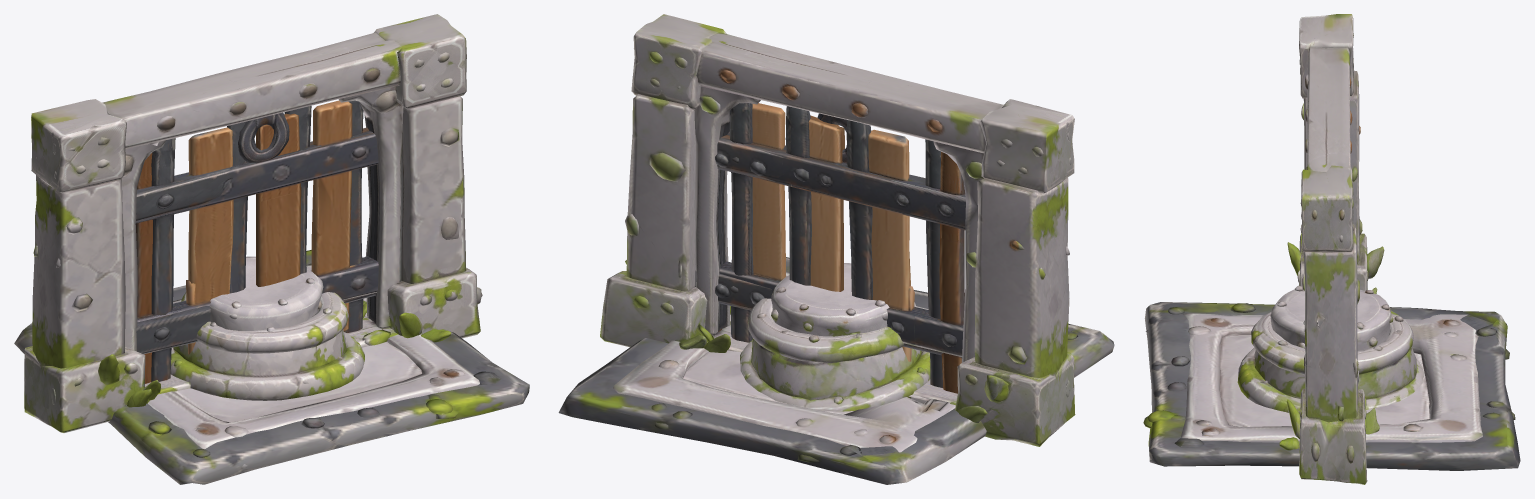
The model's file is puzle_dungeon.glb.
The picture shows the model from 3 angles, left to right: view 1: azimuth 30°, elevation 25°; view 2: azimuth 150°, elevation 25°; view 3: azimuth 270°, elevation 25°; orthographic projection. The views are drawn at different scales.
Parts seen in each view (by area): view 1: compuerta_marco, compuerta_hoja_madera, placa_marco, compuerta_hoja_hierro, pulsador_base, placa_tapa, pulsador_boton; view 2: compuerta_marco, compuerta_hoja_madera, placa_marco, compuerta_hoja_hierro, placa_tapa, pulsador_base, pulsador_boton; view 3: compuerta_marco, placa_marco, placa_tapa, pulsador_base, pulsador_boton.
Part boxes in pixels (left/top/right/bottom): compuerta_marco: left=24, top=14, right=482, bottom=432; compuerta_hoja_madera: left=135, top=100, right=378, bottom=383; placa_marco: left=14, top=250, right=529, bottom=484; compuerta_hoja_hierro: left=135, top=100, right=375, bottom=381; pulsador_base: left=170, top=292, right=364, bottom=400; placa_tapa: left=148, top=263, right=479, bottom=449; pulsador_boton: left=209, top=256, right=323, bottom=330; compuerta_marco: left=600, top=14, right=1075, bottom=446; compuerta_hoja_madera: left=718, top=103, right=965, bottom=393; placa_marco: left=558, top=257, right=1114, bottom=484; compuerta_hoja_hierro: left=695, top=103, right=962, bottom=387; placa_tapa: left=613, top=271, right=955, bottom=452; pulsador_base: left=740, top=298, right=930, bottom=411; pulsador_boton: left=771, top=263, right=889, bottom=336; compuerta_marco: left=1279, top=14, right=1384, bottom=484; placa_marco: left=1143, top=302, right=1520, bottom=470; placa_tapa: left=1181, top=313, right=1482, bottom=442; pulsador_base: left=1237, top=310, right=1424, bottom=412; pulsador_boton: left=1270, top=285, right=1393, bottom=350.
Size of the model in its own units: 2.2 by 1.5 by 1.8.
1 material, 1 textured.
